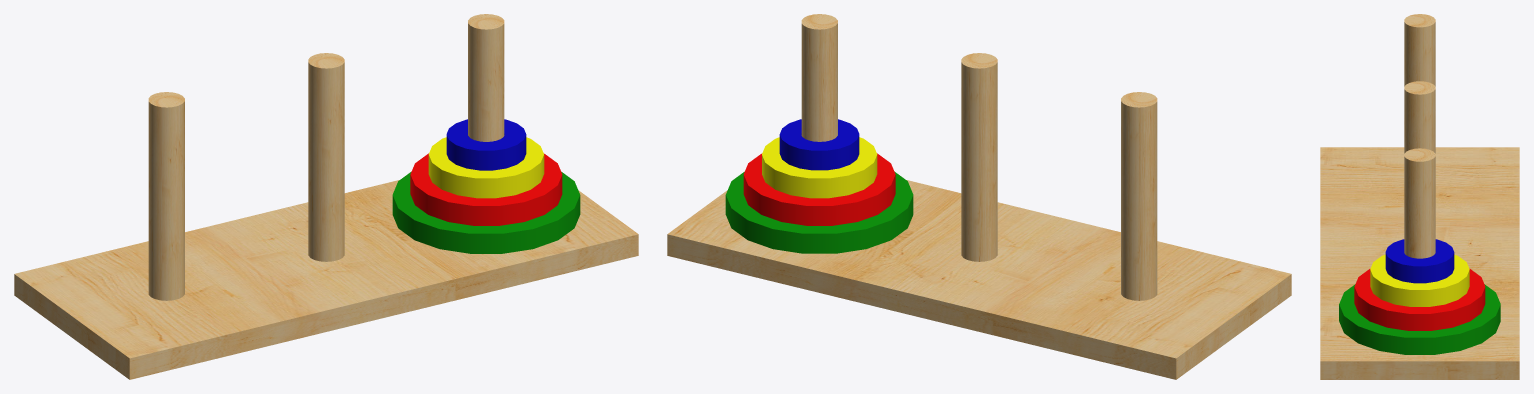
Rendered from torres de hanoi.FBX.
3 views of the same model, side by side, from view 1: azimuth 30°, elevation 25°; view 2: azimuth 150°, elevation 25°; view 3: azimuth 270°, elevation 25° (orthographic). The views are drawn at different scales.
Visible parts, largest first — view 1: Base, Poste izquierdo, Poste Centro, Disco 1, Disco 2, Poste derecho, Disco 3, Disco 4; view 2: Base, Poste izquierdo, Poste Centro, Disco 1, Disco 2, Poste derecho, Disco 3, Disco 4; view 3: Base, Disco 1, Disco 2, Poste derecho, Disco 3, Disco 4, Poste izquierdo, Poste Centro.
Boxes of the visible parts, <box> form: Base: <box>14,180,638,379</box>; Poste izquierdo: <box>148,92,184,300</box>; Poste Centro: <box>308,53,344,261</box>; Disco 1: <box>392,172,580,253</box>; Disco 2: <box>410,153,562,225</box>; Poste derecho: <box>468,14,504,141</box>; Disco 3: <box>428,137,544,198</box>; Disco 4: <box>446,119,526,170</box>; Base: <box>667,180,1291,379</box>; Poste izquierdo: <box>1121,92,1157,300</box>; Poste Centro: <box>961,53,997,261</box>; Disco 1: <box>725,171,913,253</box>; Disco 2: <box>743,153,895,225</box>; Poste derecho: <box>801,14,837,141</box>; Disco 3: <box>762,137,877,198</box>; Disco 4: <box>779,119,859,170</box>; Base: <box>1320,147,1519,379</box>; Disco 1: <box>1339,284,1500,354</box>; Disco 2: <box>1354,268,1485,330</box>; Poste derecho: <box>1404,148,1435,258</box>; Disco 3: <box>1370,254,1469,306</box>; Disco 4: <box>1385,239,1454,283</box>; Poste izquierdo: <box>1404,14,1435,86</box>; Poste Centro: <box>1404,81,1435,153</box>.
Bounding box in the file's own units: 318 × 128 × 125.
